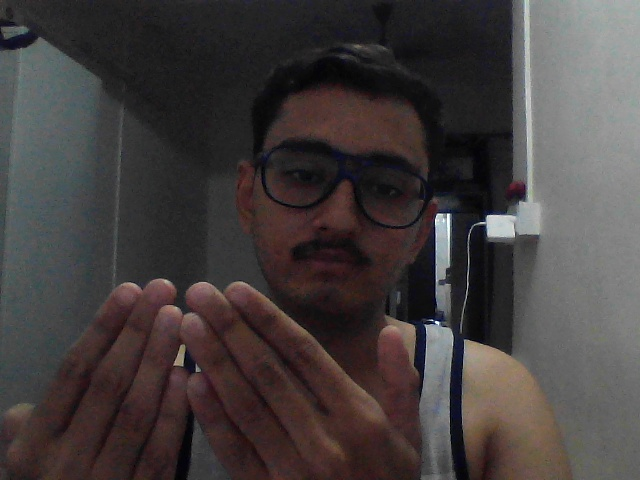Thank You: (4, 234, 436, 480)
